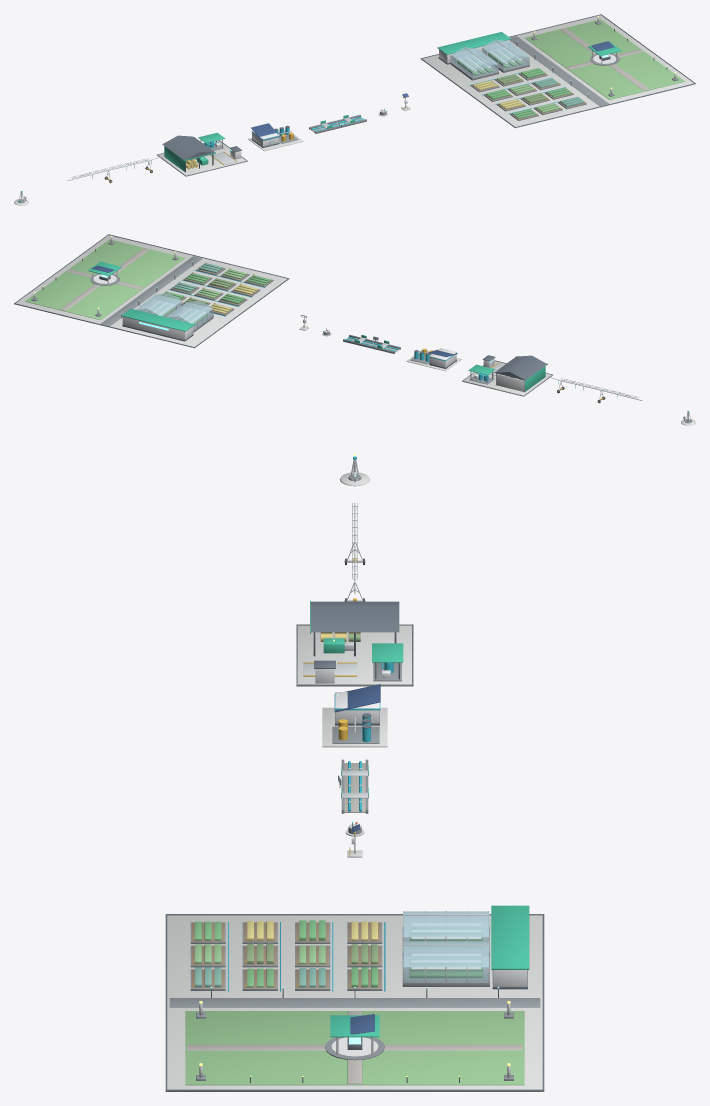
Rendered from o_p_q_ecoforage.glb.
3 views of the same model, one above another, from view 1: azimuth 30°, elevation 25°; view 2: azimuth 150°, elevation 25°; view 3: azimuth 270°, elevation 25° (orthographic). The views are drawn at different scales.
Visible parts, largest first — view 1: Q_ReserveLawn, Q_SiteBase, Q_CenterAvenue, Q_GH_Glass_0, Q_GH_Glass_1, OFS_ShedRoof, OFS_Pad, Q_HeadRoof, Q_GH_Roof_0, Q_GH_Roof_1, Q_ReservePathNS; view 2: Q_ReserveLawn, Q_SiteBase, Q_CenterAvenue, OFS_ShedRoof, Q_HeadRoof, Q_GH_Glass_0, Q_GH_Roof_0, Q_GH_Roof_1, Q_Headhouse, Q_GH_Glass_1, OFS_Pad, Q_ReservePathNS (+2 smaller); view 3: Q_ReserveLawn, Q_SiteBase, Q_CenterAvenue, OFS_Pad, Q_GH_Glass_1, OFS_ShedRoof, Q_HeadRoof, Q_GH_Glass_0, Q_GH_Roof_0, Q_GH_Roof_1, Q_ReservePathNS, Q_CurbE (+2 smaller).
Boxes of the visible parts, <box> form: Q_ReserveLawn: <box>525,19,684,99</box>; Q_SiteBase: <box>421,15,695,128</box>; Q_CenterAvenue: <box>510,36,608,106</box>; Q_GH_Glass_0: <box>451,49,498,77</box>; Q_GH_Glass_1: <box>482,41,529,70</box>; OFS_ShedRoof: <box>162,135,214,159</box>; OFS_Pad: <box>157,140,247,176</box>; Q_HeadRoof: <box>437,31,510,54</box>; Q_GH_Roof_0: <box>451,47,497,70</box>; Q_GH_Roof_1: <box>482,39,529,62</box>; Q_ReservePathNS: <box>560,28,649,90</box>; Q_ReserveLawn: <box>25,239,184,319</box>; Q_SiteBase: <box>15,235,288,348</box>; Q_CenterAvenue: <box>101,256,202,326</box>; OFS_ShedRoof: <box>494,355,547,380</box>; Q_HeadRoof: <box>121,308,194,331</box>; Q_GH_Glass_0: <box>167,302,212,329</box>; Q_GH_Roof_0: <box>166,300,212,323</box>; Q_GH_Roof_1: <box>135,293,181,315</box>; Q_Headhouse: <box>122,316,193,339</box>; Q_GH_Glass_1: <box>136,295,181,316</box>; OFS_Pad: <box>462,361,552,396</box>; Q_ReservePathNS: <box>60,248,149,310</box>; Q_ReserveLawn: <box>185,1011,524,1085</box>; Q_SiteBase: <box>166,915,543,1091</box>; Q_CenterAvenue: <box>169,998,540,1007</box>; OFS_Pad: <box>296,625,413,686</box>; Q_GH_Glass_1: <box>404,942,488,981</box>; OFS_ShedRoof: <box>310,601,399,632</box>; Q_HeadRoof: <box>491,905,529,969</box>; Q_GH_Glass_0: <box>404,912,488,941</box>; Q_GH_Roof_0: <box>403,911,489,937</box>; Q_GH_Roof_1: <box>403,941,489,967</box>; Q_ReservePathNS: <box>187,1044,522,1050</box>; Q_CurbE: <box>167,1089,542,1091</box>.
Size of the model in its own units: 224 by 6.1 by 58.
